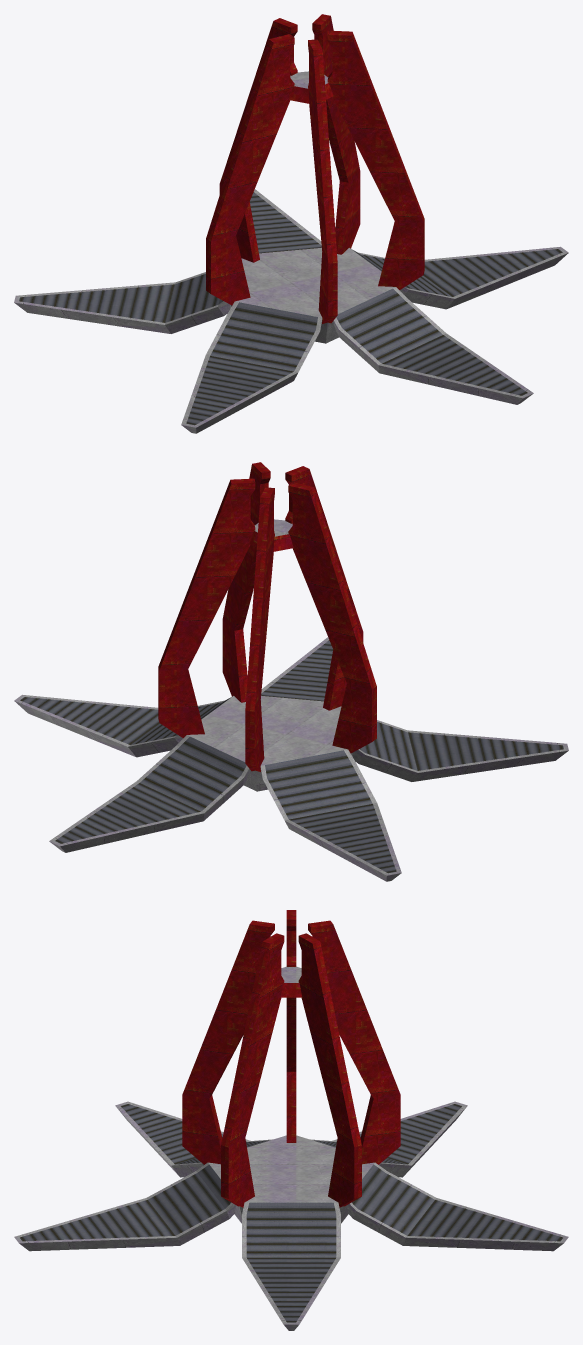
The model's file is drop-pod-open.obj.
The picture shows the model from 3 angles, top to bottom: view 1: azimuth 30°, elevation 25°; view 2: azimuth 150°, elevation 25°; view 3: azimuth 270°, elevation 25°; orthographic projection. The views are drawn at different scales.
Visible parts, largest first — view 1: Mesh12 box5 Group1 Model, Mesh9 box2 Group1 Model, Mesh6 Group_1_4 box Group1 Model, Mesh4 Group_1_2 box Group1 Model, Mesh8 box1 Group1 Model, Mesh1 Group2 box Group1 Model, Mesh10 box3 Group1 Model, Mesh5 Group_1_3 box Group1 Model, Mesh7 Group_1_5 box Group1 Model, Mesh11 box4 Group1 Model, Mesh3 Group_1_1 box Group1 Model, Mesh2 Group2 box Group1 Model; view 2: Mesh11 box4 Group1 Model, Mesh8 box1 Group1 Model, Mesh7 Group_1_5 box Group1 Model, Mesh4 Group_1_2 box Group1 Model, Mesh9 box2 Group1 Model, Mesh1 Group2 box Group1 Model, Mesh10 box3 Group1 Model, Mesh3 Group_1_1 box Group1 Model, Mesh6 Group_1_4 box Group1 Model, Mesh12 box5 Group1 Model, Mesh5 Group_1_3 box Group1 Model, Mesh2 Group2 box Group1 Model; view 3: Mesh10 box3 Group1 Model, Mesh11 box4 Group1 Model, Mesh12 box5 Group1 Model, Mesh3 Group_1_1 box Group1 Model, Mesh5 Group_1_3 box Group1 Model, Mesh6 Group_1_4 box Group1 Model, Mesh7 Group_1_5 box Group1 Model, Mesh1 Group2 box Group1 Model, Mesh8 box1 Group1 Model, Mesh9 box2 Group1 Model, Mesh4 Group_1_2 box Group1 Model, Mesh2 Group2 box Group1 Model.
Boxes of the visible parts, x1,y1,x2,y2 form: Mesh12 box5 Group1 Model: [333, 287, 533, 404]; Mesh9 box2 Group1 Model: [181, 301, 322, 433]; Mesh6 Group_1_4 box Group1 Model: [327, 30, 424, 290]; Mesh4 Group_1_2 box Group1 Model: [206, 34, 294, 305]; Mesh8 box1 Group1 Model: [14, 272, 231, 333]; Mesh1 Group2 box Group1 Model: [231, 247, 395, 343]; Mesh10 box3 Group1 Model: [350, 246, 568, 309]; Mesh5 Group_1_3 box Group1 Model: [308, 39, 337, 323]; Mesh7 Group_1_5 box Group1 Model: [312, 14, 360, 254]; Mesh11 box4 Group1 Model: [249, 189, 321, 253]; Mesh3 Group_1_1 box Group1 Model: [219, 18, 297, 262]; Mesh2 Group2 box Group1 Model: [289, 71, 333, 103]; Mesh11 box4 Group1 Model: [49, 735, 249, 852]; Mesh8 box1 Group1 Model: [260, 749, 401, 881]; Mesh7 Group_1_5 box Group1 Model: [158, 478, 255, 738]; Mesh4 Group_1_2 box Group1 Model: [288, 482, 376, 753]; Mesh9 box2 Group1 Model: [351, 720, 568, 781]; Mesh1 Group2 box Group1 Model: [187, 695, 351, 791]; Mesh10 box3 Group1 Model: [14, 694, 232, 757]; Mesh3 Group_1_1 box Group1 Model: [245, 487, 274, 771]; Mesh6 Group_1_4 box Group1 Model: [222, 462, 270, 702]; Mesh12 box5 Group1 Model: [261, 637, 333, 701]; Mesh5 Group_1_3 box Group1 Model: [285, 466, 363, 710]; Mesh2 Group2 box Group1 Model: [249, 519, 293, 551]; Mesh10 box3 Group1 Model: [242, 1202, 340, 1330]; Mesh11 box4 Group1 Model: [347, 1162, 568, 1251]; Mesh12 box5 Group1 Model: [14, 1162, 235, 1251]; Mesh3 Group_1_1 box Group1 Model: [308, 920, 400, 1164]; Mesh5 Group_1_3 box Group1 Model: [182, 920, 274, 1164]; Mesh6 Group_1_4 box Group1 Model: [221, 933, 284, 1207]; Mesh7 Group_1_5 box Group1 Model: [298, 933, 361, 1207]; Mesh1 Group2 box Group1 Model: [208, 1135, 374, 1223]; Mesh8 box1 Group1 Model: [310, 1101, 467, 1177]; Mesh9 box2 Group1 Model: [115, 1101, 272, 1177]; Mesh4 Group_1_2 box Group1 Model: [286, 910, 296, 1142]; Mesh2 Group2 box Group1 Model: [280, 966, 302, 997].
Bounding box in the file's own units: 11.18 × 6.69 × 11.76.
